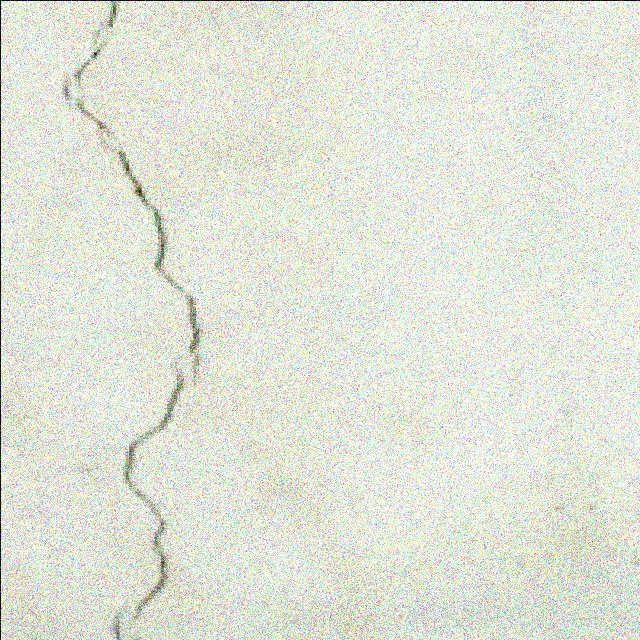SurfaceCrack: (32, 0, 224, 640)
